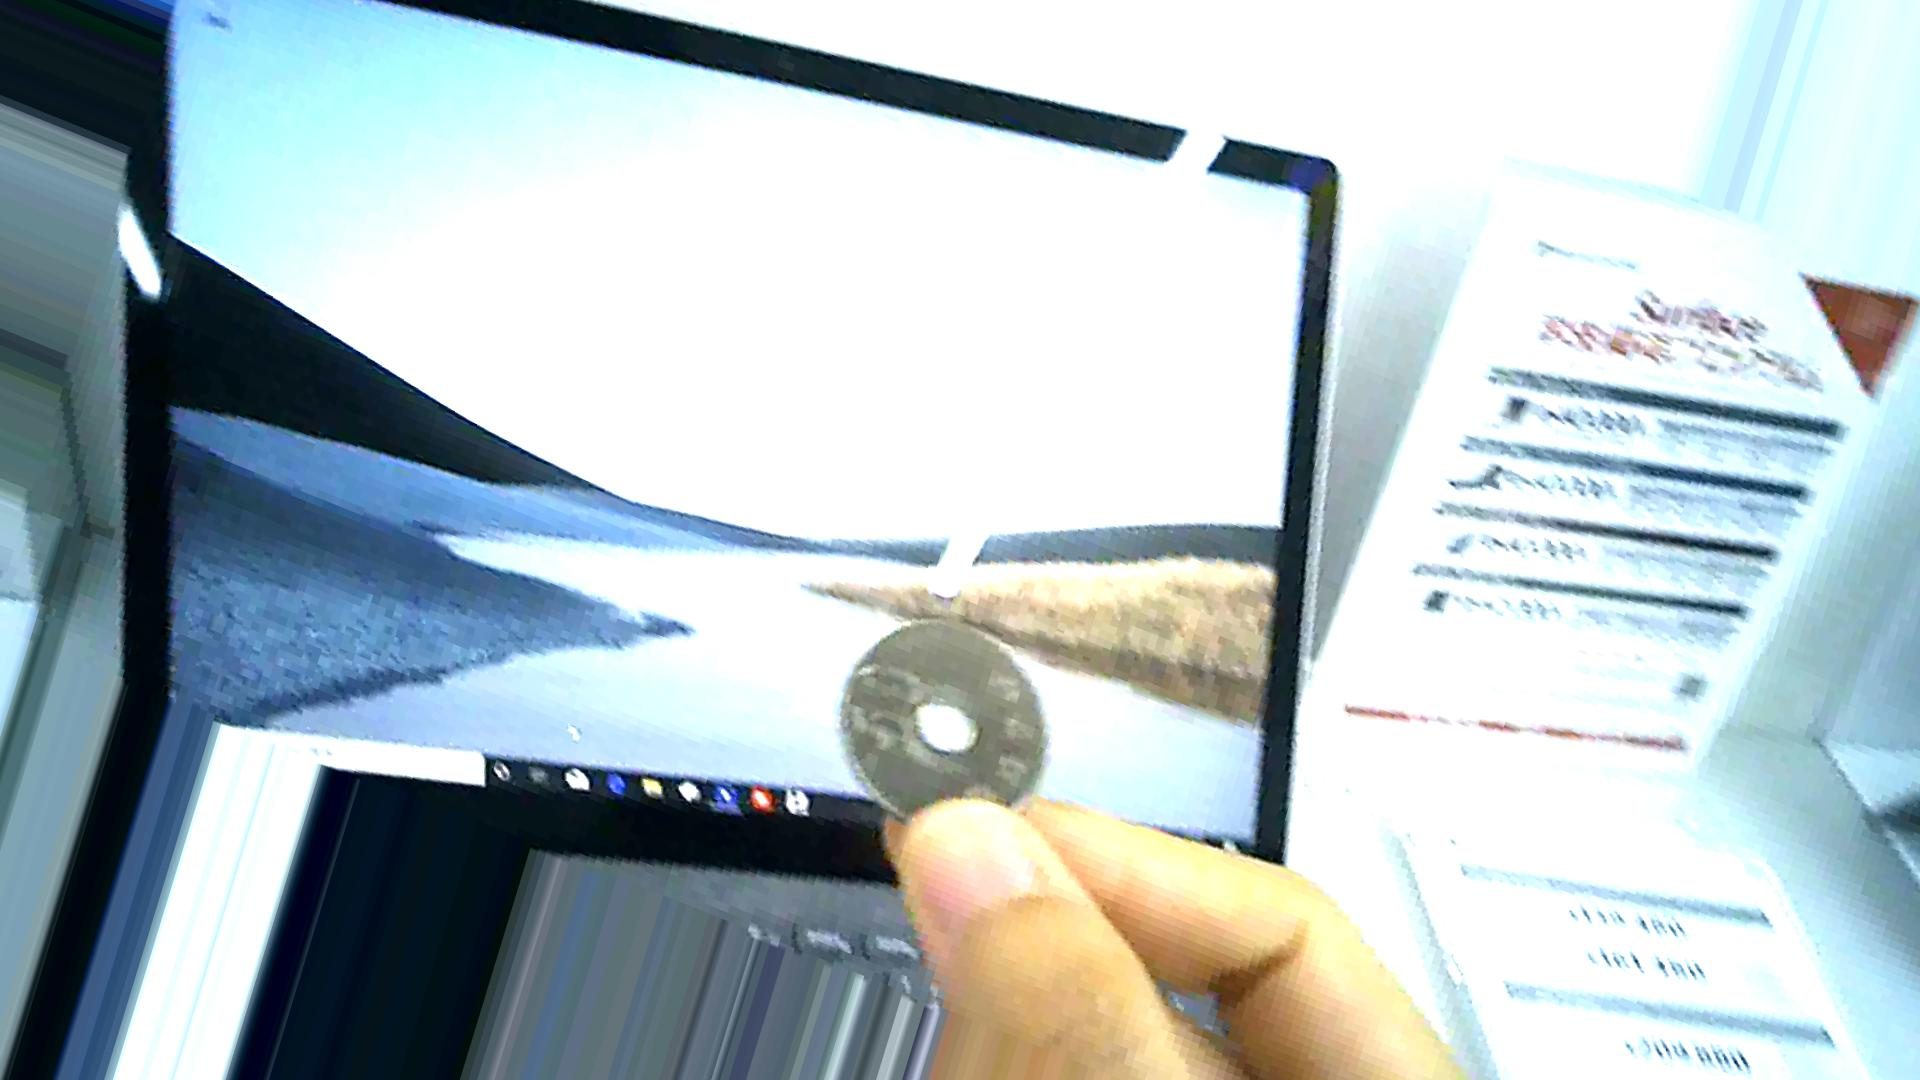50 Yen: (833, 615, 1059, 843)
